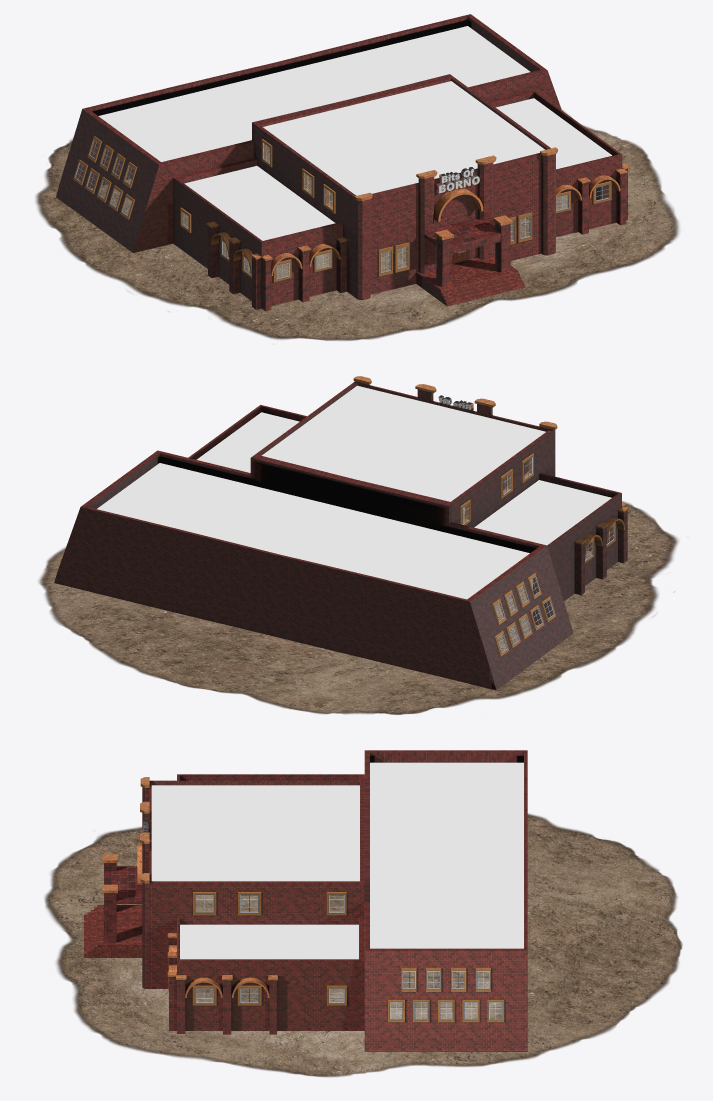
Rendered from 3dmodel-6mb.glb.
The picture shows the model from 3 angles, top to bottom: view 1: azimuth 30°, elevation 25°; view 2: azimuth 150°, elevation 25°; view 3: azimuth 270°, elevation 25°; orthographic projection. The views are drawn at different scales.
Visible parts, largest first — view 1: Plane003, Plane013, Ground_Ground_Mat_0, Plane011, A38_Window_120x150_062_Mat_A38_Window_Glass_001_0001, Plane010, Circle001, Plane009, Text007; view 2: Plane003, Plane013, Ground_Ground_Mat_0, A38_Window_120x150_062_Mat_A38_Window_Glass_001_0001, Plane010, Plane011, Circle001; view 3: Plane013, Ground_Ground_Mat_0, Plane003, A38_Window_120x150_062_Mat_A38_Window_Glass_001_0001, Plane011, Plane010, Plane009, Circle001.
Part boxes in pixels (left/top/right/bottom): Plane003: left=56, top=14, right=622, bottom=306; Plane013: left=98, top=26, right=611, bottom=240; Ground_Ground_Mat_0: left=35, top=109, right=679, bottom=340; Plane011: left=208, top=169, right=627, bottom=311; A38_Window_120x150_062_Mat_A38_Window_Glass_001_0001: left=74, top=138, right=609, bottom=279; Plane010: left=73, top=136, right=611, bottom=282; Circle001: left=206, top=147, right=629, bottom=275; Plane009: left=416, top=253, right=524, bottom=306; Text007: left=436, top=167, right=479, bottom=193; Plane003: left=54, top=381, right=621, bottom=690; Plane013: left=97, top=385, right=611, bottom=599; Ground_Ground_Mat_0: left=39, top=501, right=678, bottom=714; A38_Window_120x150_062_Mat_A38_Window_Glass_001_0001: left=462, top=456, right=614, bottom=653; Plane010: left=460, top=453, right=615, bottom=656; Plane011: left=503, top=478, right=627, bottom=595; Circle001: left=353, top=376, right=628, bottom=558; Plane013: left=151, top=762, right=523, bottom=959; Ground_Ground_Mat_0: left=44, top=813, right=682, bottom=1077; Plane003: left=142, top=750, right=527, bottom=1051; A38_Window_120x150_062_Mat_A38_Window_Glass_001_0001: left=195, top=894, right=502, bottom=1020; Plane011: left=104, top=863, right=276, bottom=1034; Plane010: left=192, top=892, right=504, bottom=1022; Plane009: left=84, top=905, right=142, bottom=957; Circle001: left=102, top=777, right=277, bottom=997.
Bounding box in the file's own units: 42.17 × 7.8 × 41.37.
16 materials, 8 textured.
